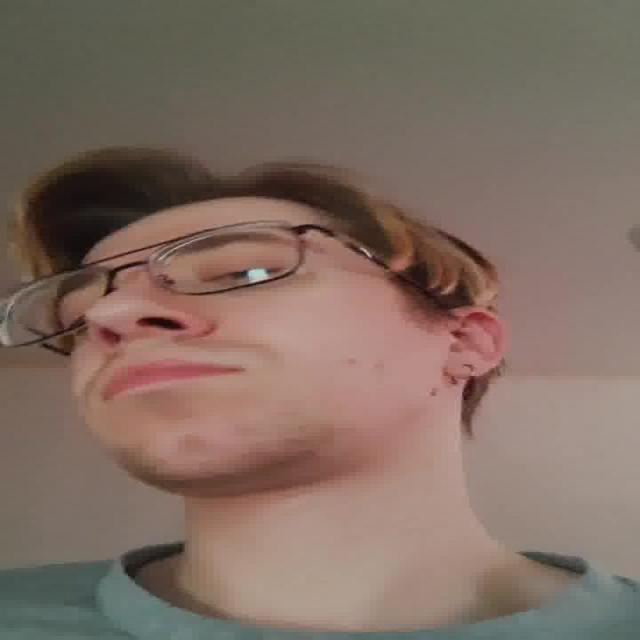earlobe: (439, 306, 512, 379)
